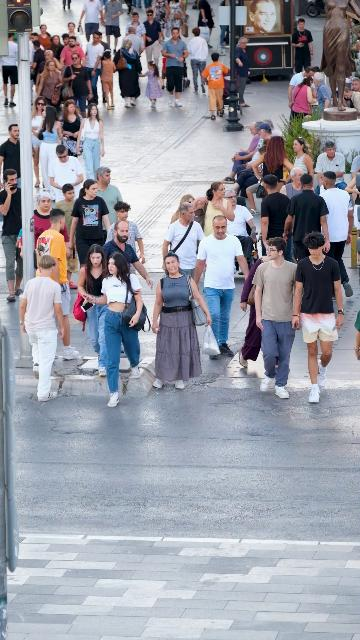person: (81, 251, 147, 409), (291, 231, 345, 405), (151, 252, 213, 391), (249, 235, 299, 400), (194, 215, 250, 359), (20, 255, 66, 402), (36, 209, 80, 361), (317, 171, 355, 300), (282, 174, 331, 263), (76, 246, 109, 377), (69, 179, 113, 273), (239, 247, 271, 370), (100, 220, 153, 288), (0, 168, 26, 303), (29, 192, 70, 274), (162, 202, 205, 278), (225, 144, 268, 215), (260, 174, 294, 263), (53, 183, 80, 291), (251, 136, 297, 195), (219, 121, 262, 183), (104, 201, 146, 264), (188, 181, 235, 236), (223, 190, 260, 258), (36, 105, 63, 197), (76, 103, 105, 183), (48, 145, 88, 201), (161, 27, 189, 107), (231, 123, 273, 176), (92, 166, 125, 232), (63, 53, 94, 123), (113, 37, 143, 108), (202, 52, 231, 121), (314, 141, 348, 195), (83, 31, 106, 109), (186, 27, 210, 95), (31, 96, 48, 188), (140, 9, 163, 77), (57, 99, 83, 158), (0, 124, 21, 189), (35, 60, 64, 106), (2, 33, 19, 108), (287, 66, 314, 112), (292, 18, 314, 74), (139, 61, 164, 109), (290, 136, 315, 183), (78, 0, 103, 47), (290, 77, 317, 120), (234, 37, 250, 108), (102, 0, 123, 54), (279, 167, 310, 200), (101, 51, 117, 110), (163, 0, 186, 40), (345, 154, 360, 214), (29, 40, 47, 89), (150, 0, 170, 43), (312, 72, 331, 117), (197, 0, 214, 49), (60, 36, 86, 68), (170, 194, 195, 225), (122, 26, 144, 59), (42, 50, 64, 81), (126, 12, 146, 43), (218, 0, 230, 46), (93, 32, 111, 58), (64, 22, 82, 47), (353, 300, 360, 361), (350, 77, 360, 119), (263, 119, 283, 138), (37, 24, 51, 51), (47, 35, 62, 60), (341, 86, 356, 109), (58, 33, 70, 58), (30, 33, 39, 50), (63, 0, 71, 10)
